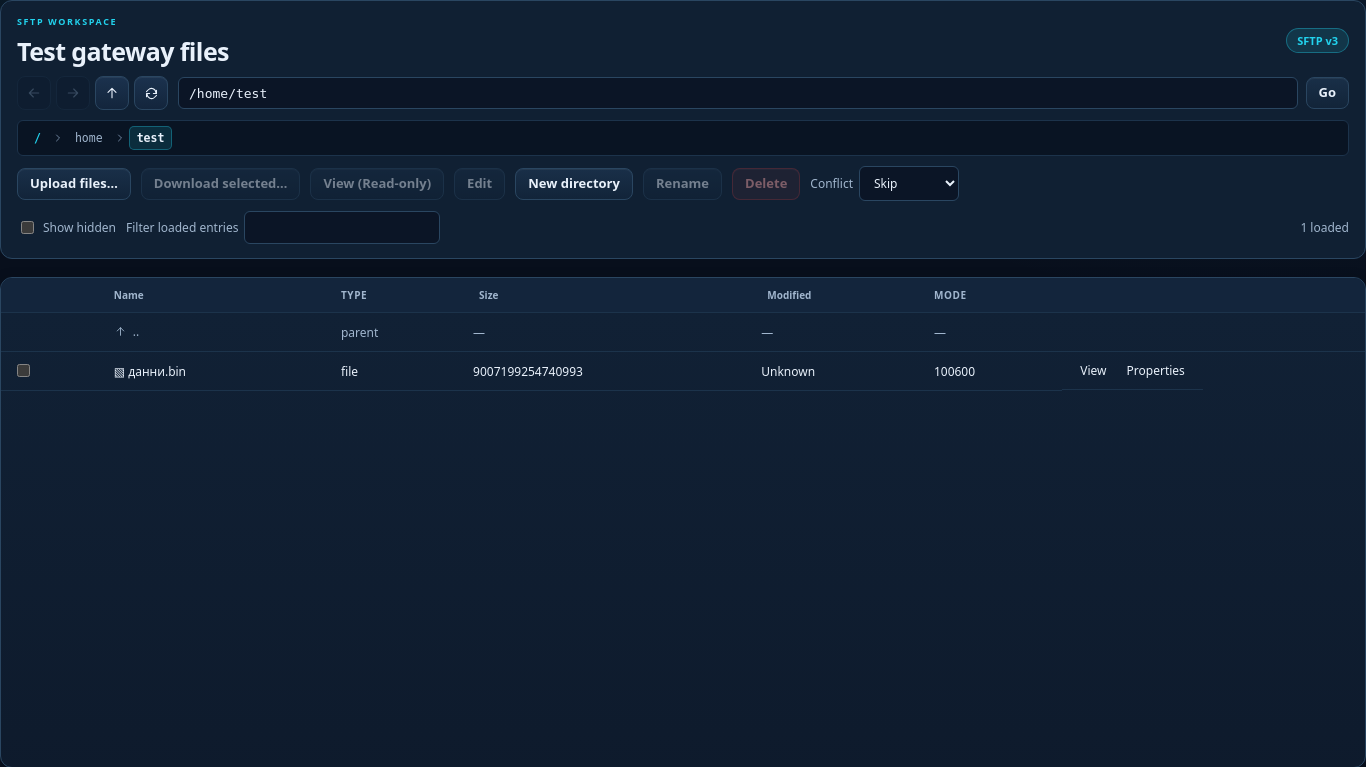
Test: Files workspace boundaries › keeps a dirty editor mounted while Files is hidden and blocks replacing it
This screenshot has width=1366, height=767.
Later steps or results of the test are not shown.
Click the checkbox named "Select данни.bin" at (24, 370), box [17,364,30,377]
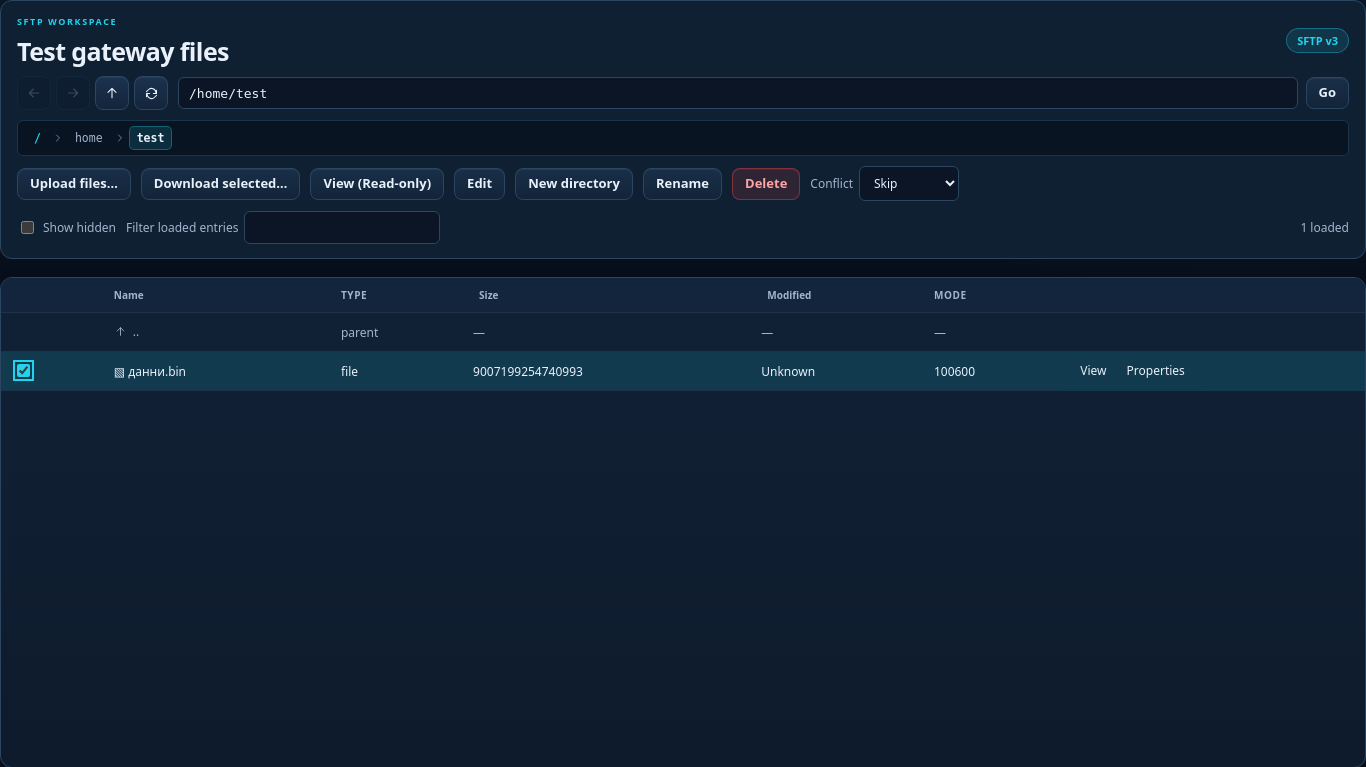
Click the button "Edit" at (480, 184), box [454,168,505,200]
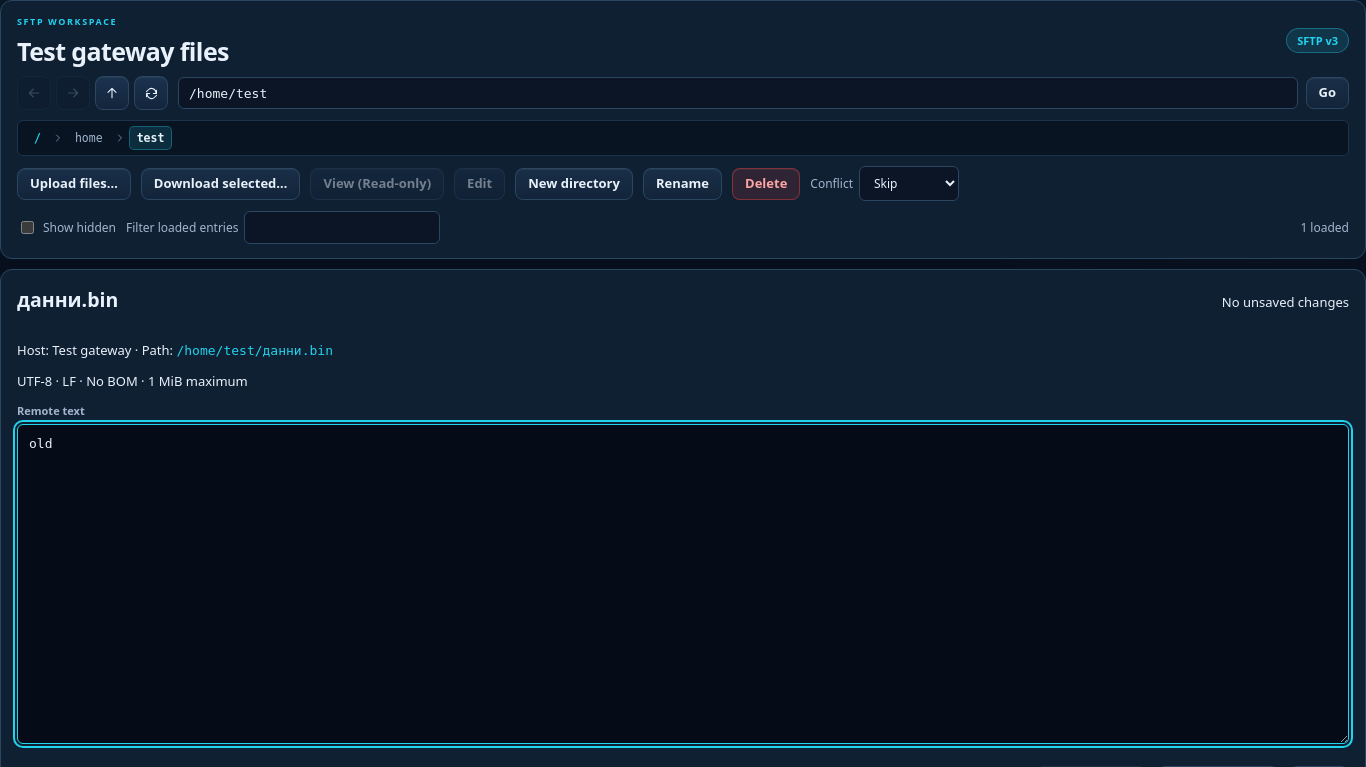
Type "new" into the text box labelled "Remote text" at (683, 584), box [17,424,1349,744]
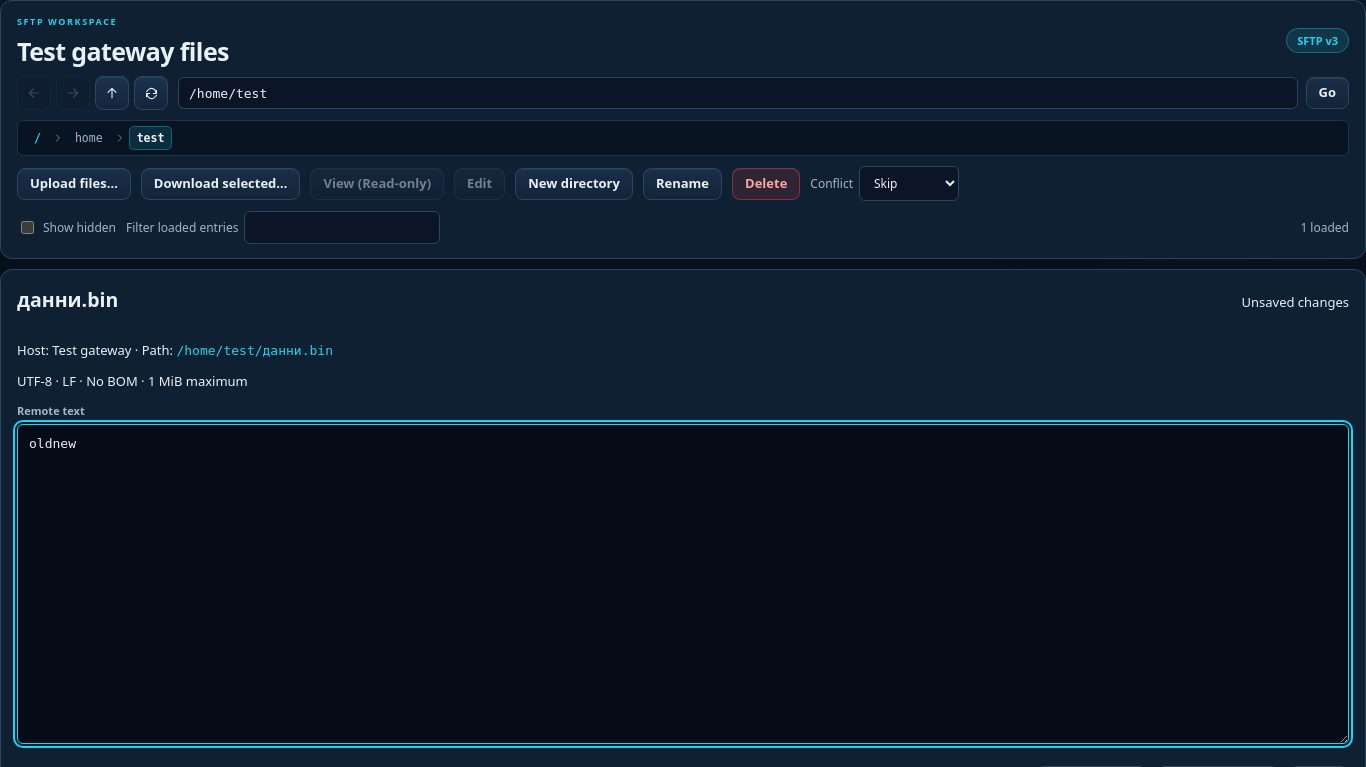
Result: the button "Edit" is disabled at [454,168,505,200]
